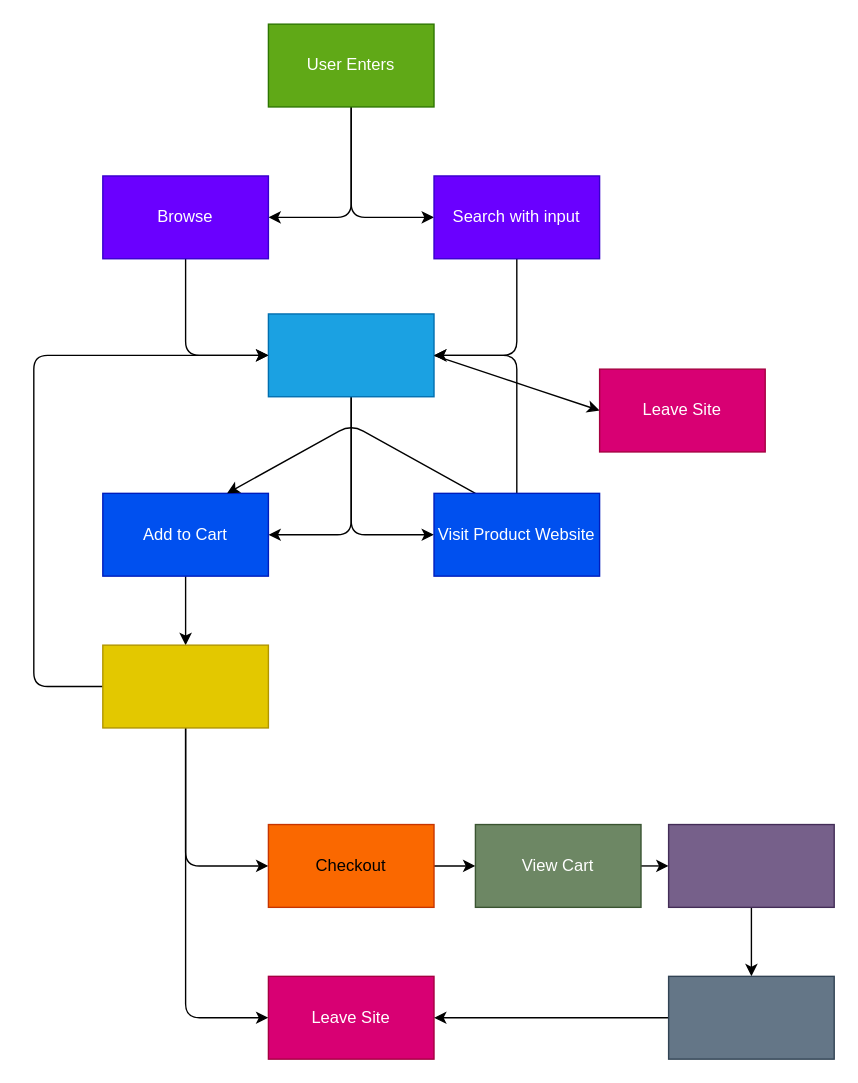
The diagram is 858 pixels wide and 1083 high, and some of its shapes have lost their labels. The shapes that lost their labels are listed below. From the top down, each one's centre as x and y in pixels, then its label:
At pixel 350 355: "Choose Product".
At pixel 184 686: "cart confirmation".
At pixel 750 865: "Payment".
At pixel 750 1017: "Confirmation and email".
